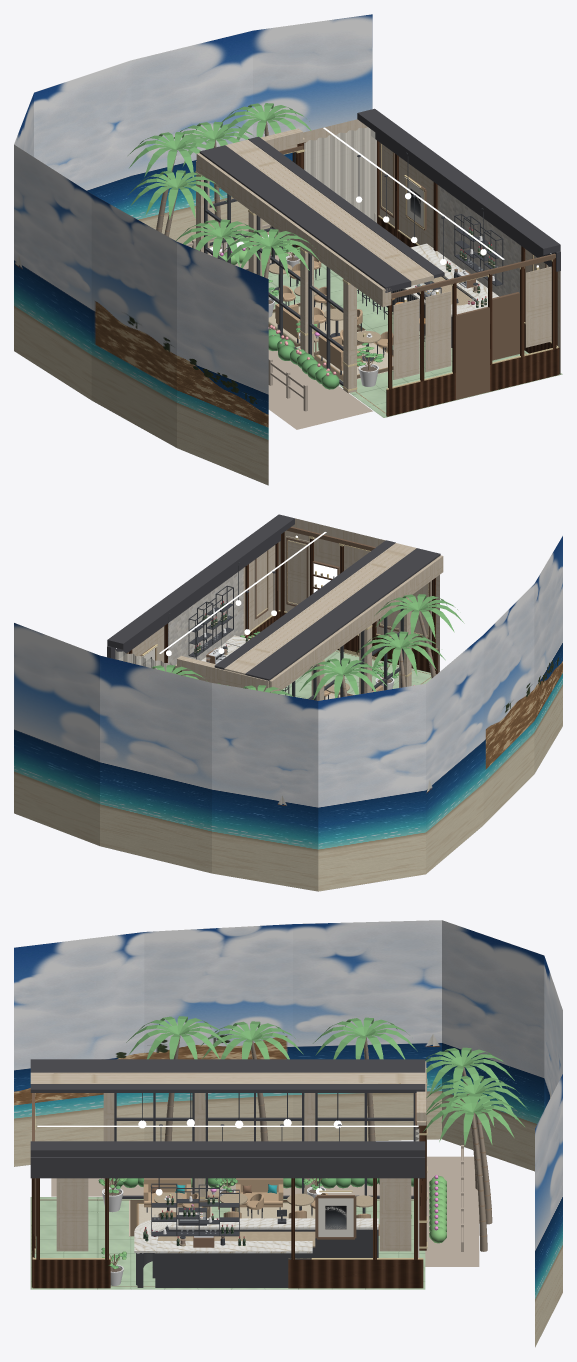
The model's file is coastal_cafe.glb.
The picture shows the model from 3 angles, top to bottom: view 1: azimuth 30°, elevation 25°; view 2: azimuth 150°, elevation 25°; view 3: azimuth 270°, elevation 25°; orthographic projection. The views are drawn at different scales.
Visible parts, largest first — view 1: CoastalBackdrop, WallsAndColumns, DarkSoffit, PalmFronds, frame, BlackMetal, BoardwalkTimber, SheerCurtain, RightBrickWall, Floor, dado, ent_frame (+15 smaller); view 2: CoastalBackdrop, WallsAndColumns, DarkSoffit, PalmFronds, RightBrickWall, BlackMetal, frame, Floor, pil, rframe, rpil, dado (+2 smaller); view 3: CoastalBackdrop, DarkSoffit, PalmFronds, WallsAndColumns, BarCounterBody, rdado, Floor, BoardwalkTimber, BlackMetal, rframe, MarbleCounter, PalmTrunks (+12 smaller).
Boxes of the visible parts, x1,y1,x2,y2 form: CoastalBackdrop: [14, 14, 372, 485]; WallsAndColumns: [196, 119, 560, 393]; DarkSoffit: [199, 108, 560, 347]; PalmFronds: [128, 103, 319, 277]; frame: [393, 266, 551, 379]; BlackMetal: [204, 152, 503, 385]; BoardwalkTimber: [186, 224, 372, 429]; SheerCurtain: [304, 127, 376, 222]; RightBrickWall: [439, 186, 521, 296]; Floor: [263, 262, 562, 417]; dado: [386, 348, 558, 416]; ent_frame: [455, 307, 489, 399]; CoastalBackdrop: [14, 536, 562, 891]; WallsAndColumns: [107, 518, 443, 700]; DarkSoffit: [107, 514, 440, 683]; PalmFronds: [152, 594, 464, 699]; RightBrickWall: [168, 568, 243, 665]; BlackMetal: [168, 562, 403, 700]; frame: [285, 536, 431, 640]; Floor: [280, 650, 436, 698]; pil: [280, 532, 435, 669]; rframe: [119, 550, 268, 660]; rpil: [128, 542, 278, 669]; dado: [279, 611, 438, 674]; CoastalBackdrop: [14, 920, 562, 1347]; DarkSoffit: [30, 1059, 425, 1287]; PalmFronds: [126, 1016, 526, 1146]; WallsAndColumns: [30, 1061, 426, 1200]; BarCounterBody: [136, 1229, 378, 1287]; rdado: [32, 1259, 423, 1288]; Floor: [30, 1197, 425, 1289]; BoardwalkTimber: [51, 1145, 479, 1266]; BlackMetal: [114, 1093, 415, 1245]; rframe: [56, 1178, 411, 1251]; MarbleCounter: [134, 1218, 378, 1253]; PalmTrunks: [164, 1035, 492, 1251].
Size of the model in its own units: 53 by 26 by 59.
46 materials, 16 textured.
